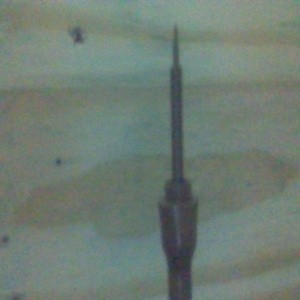solder: (158, 24, 200, 300)
